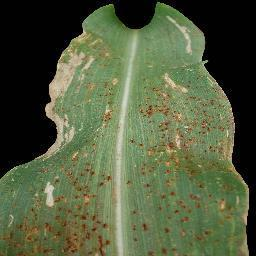Corn_Common_Rust: (127, 101, 251, 256), (0, 122, 115, 256), (40, 29, 123, 122), (142, 59, 229, 101), (167, 15, 198, 55)
